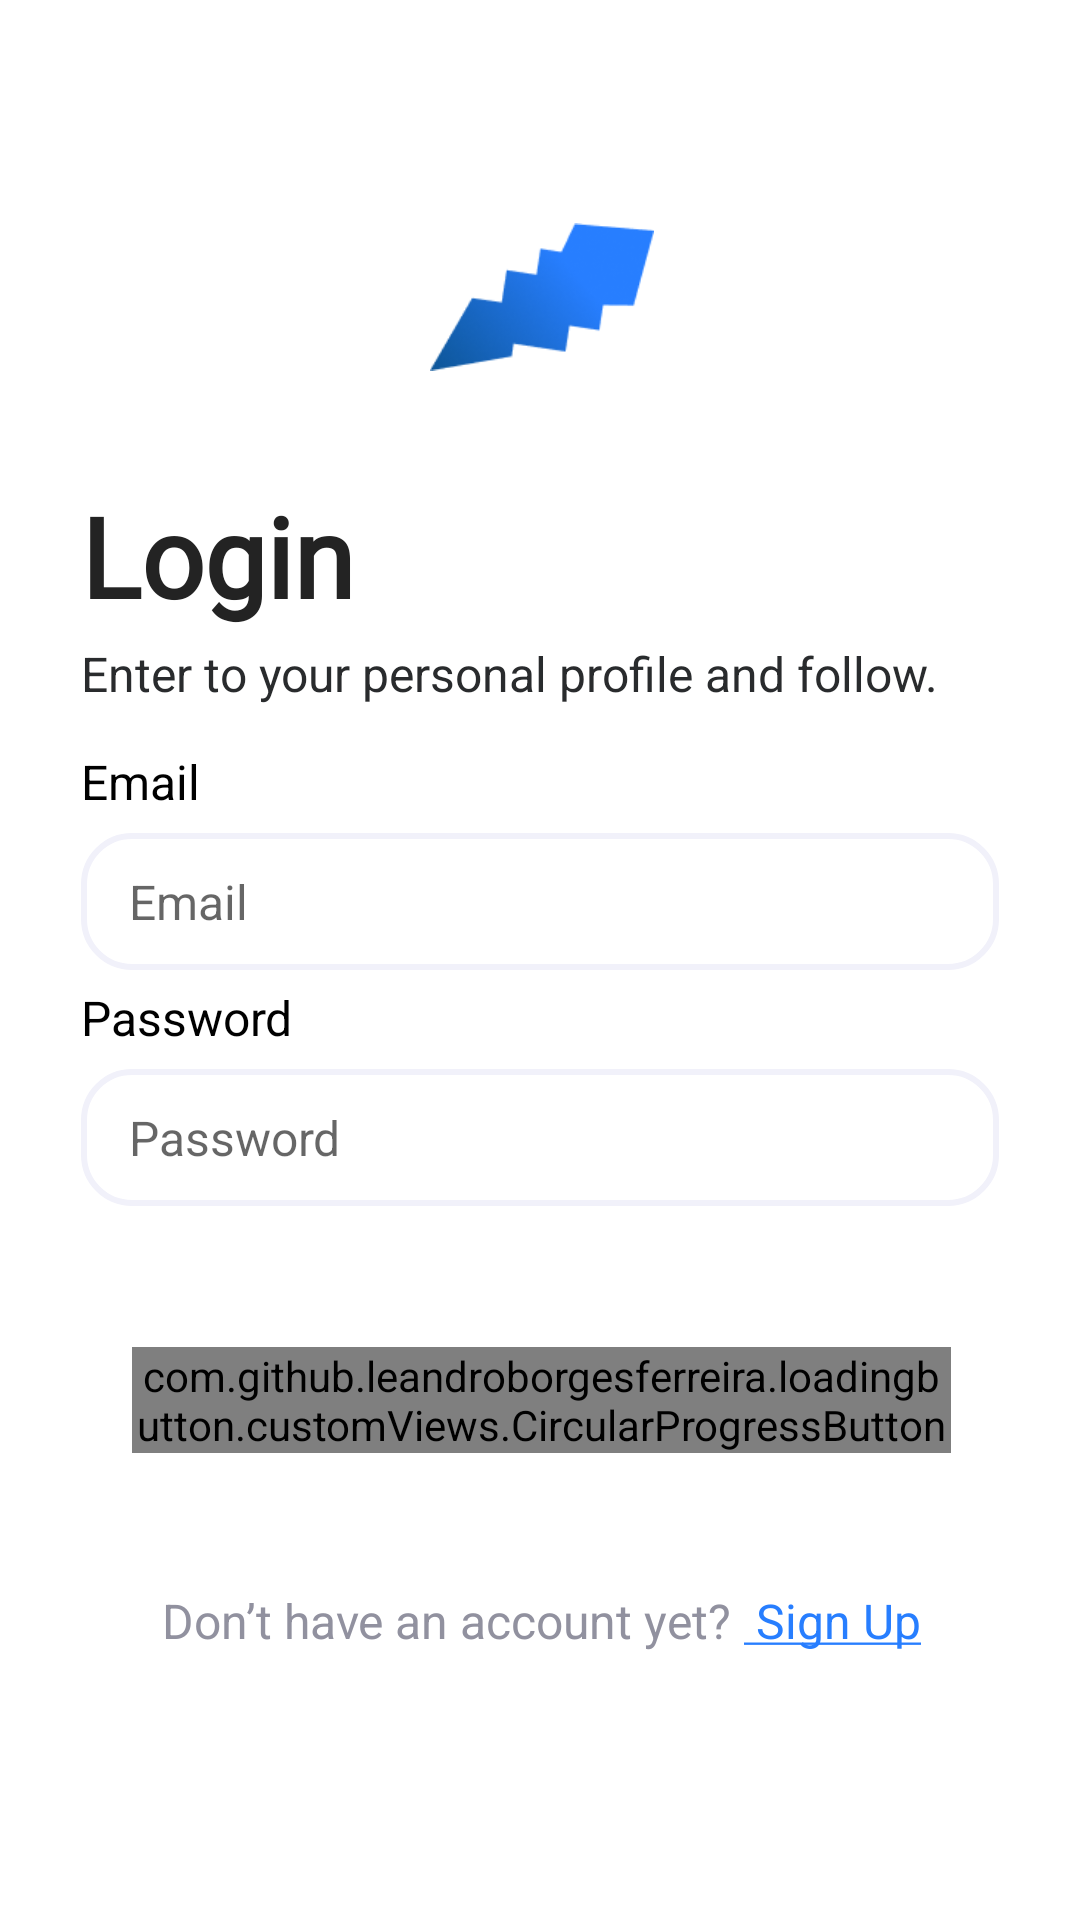

Icon click points for this 1080x1920 phone screenshot, format [x,y]:
union: [542,297]
